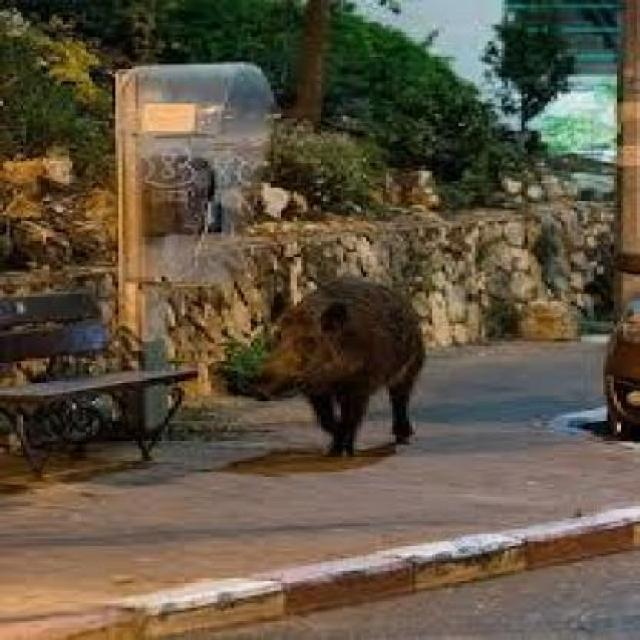wildboar: (237, 280, 426, 465)
